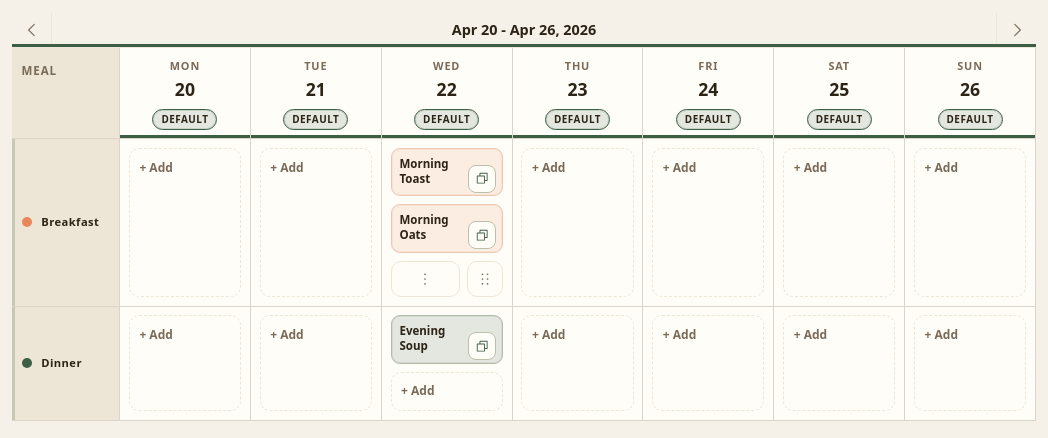
it: meal plan drag prompt paths › adds a meal from the multi-meal slot overflow menu
Click the button named "More actions for breakfast meals" at (425, 279), box [390,261,460,297]
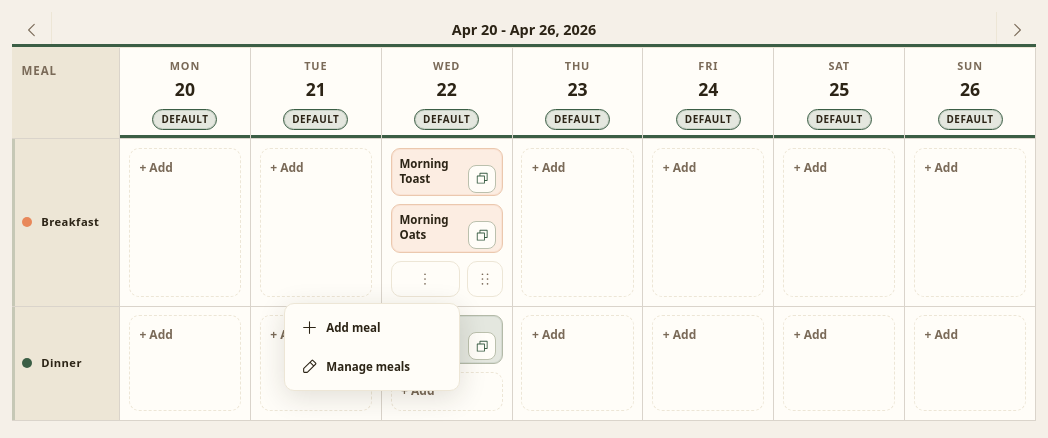
Result: the number of menu items is 2
Click the menu item "Add meal" at (372, 327), box [290,309,453,345]
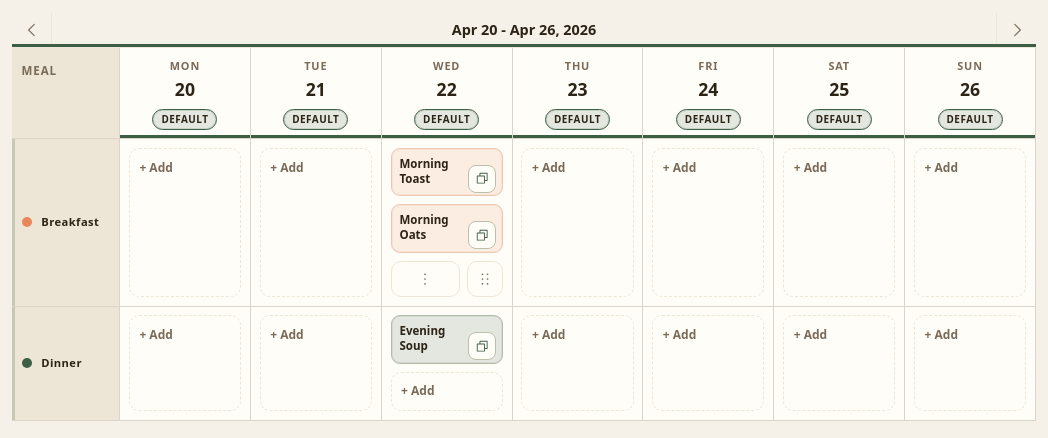
Result: the menu is gone
